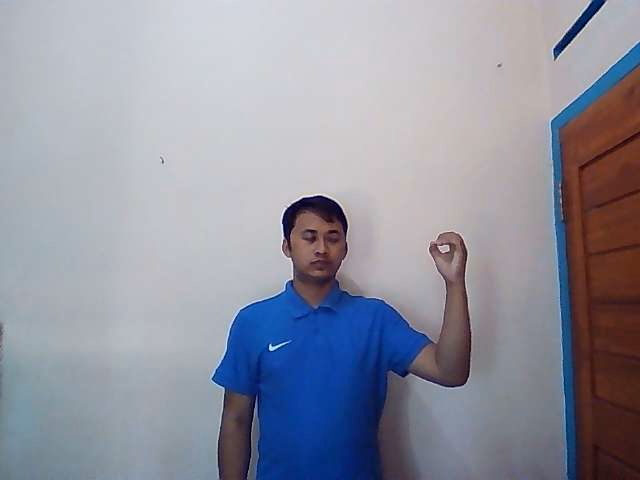O: (427, 230, 471, 283)
